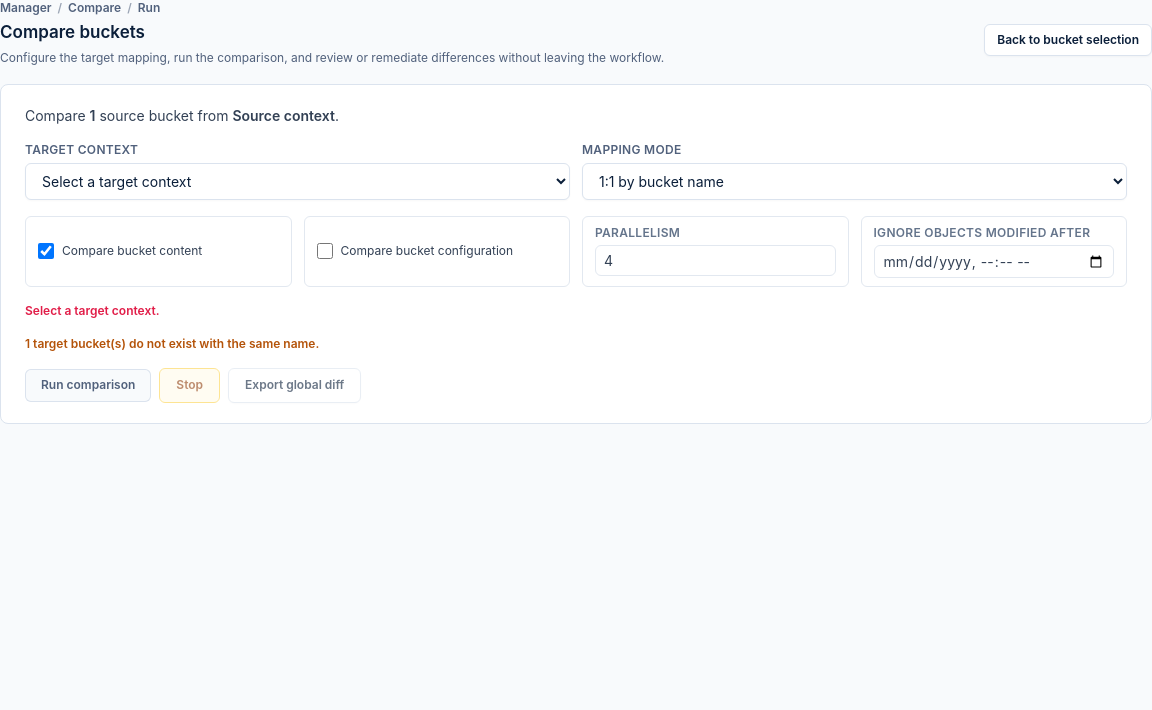
Scenario: ManagerBucketCompareModal remediation actions › opens a confirmation modal before running remediation
The image size is (1152, 710).
Expected: the dropdown labelled "Mapping mode" is shown, [582,162,1127,200]
Select "Target context" in the dropdown labelled "Target context". click: (298, 181)
box: [25,162,570,200]
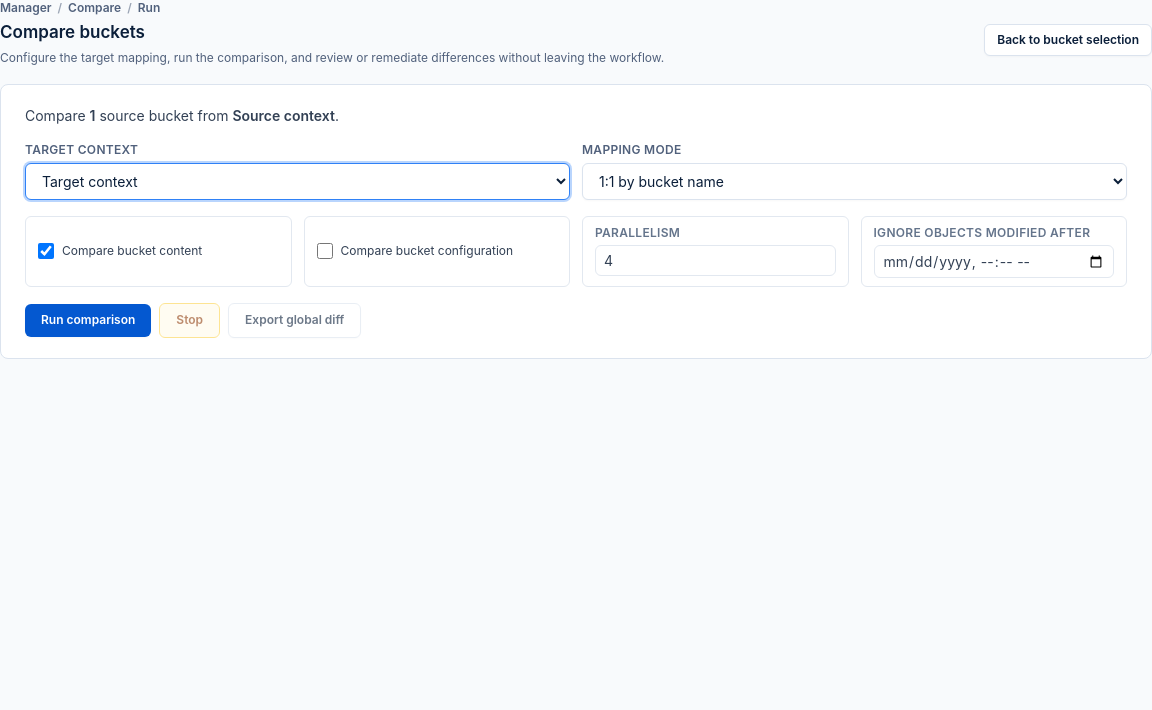
Result: the button "Run comparison" is enabled
Click the button "Run comparison". click: (88, 320)
box: [25,304,151,336]
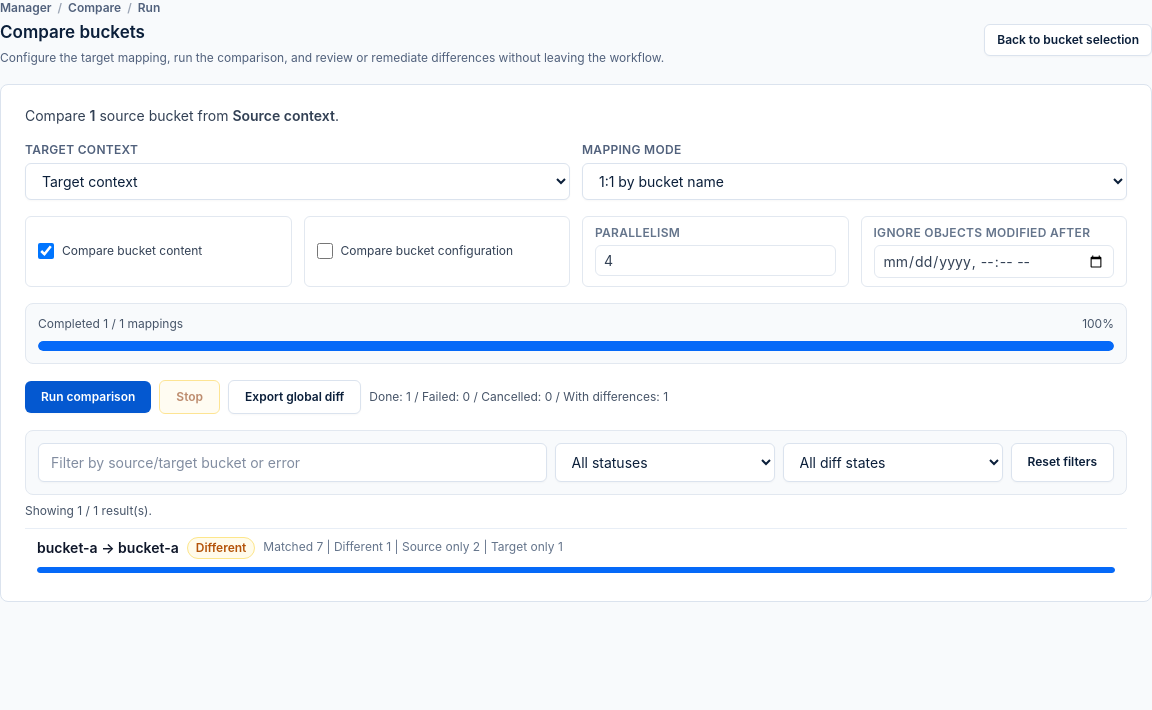
Click the heading that starts with "bucket-a". click: (67, 547)
box: [25,528,1127,580]
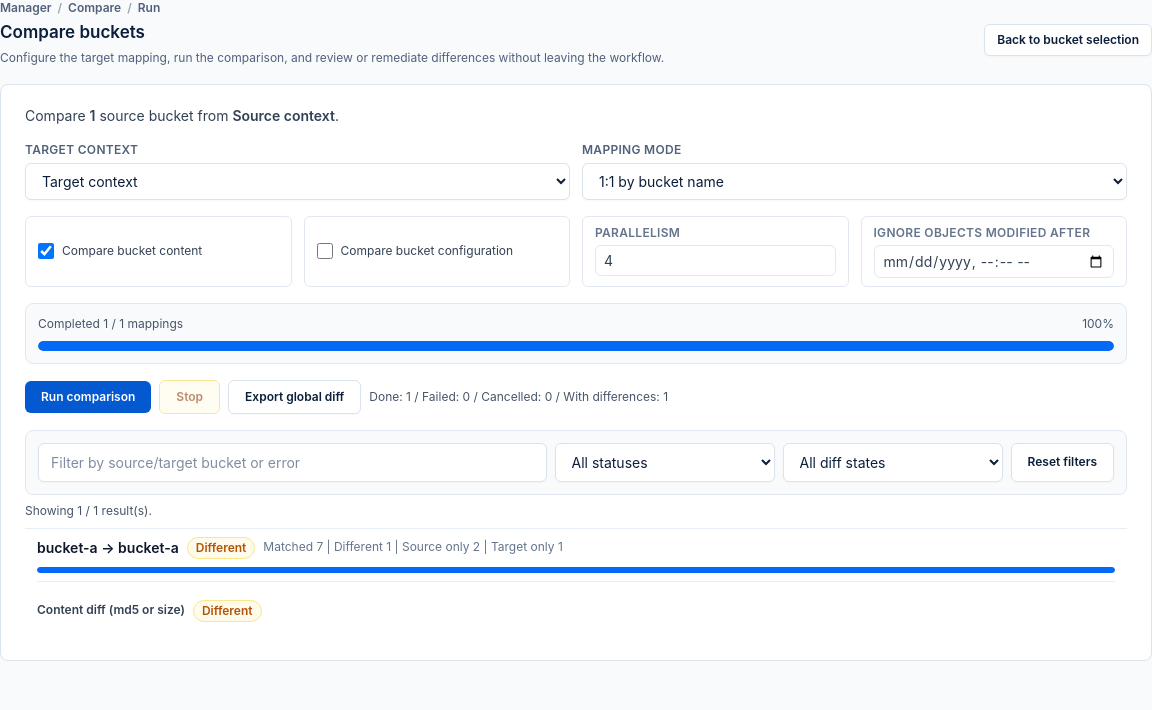
Click the heading "Content diff (md5 or size) Different". click: (149, 610)
box: [37,600,262,622]
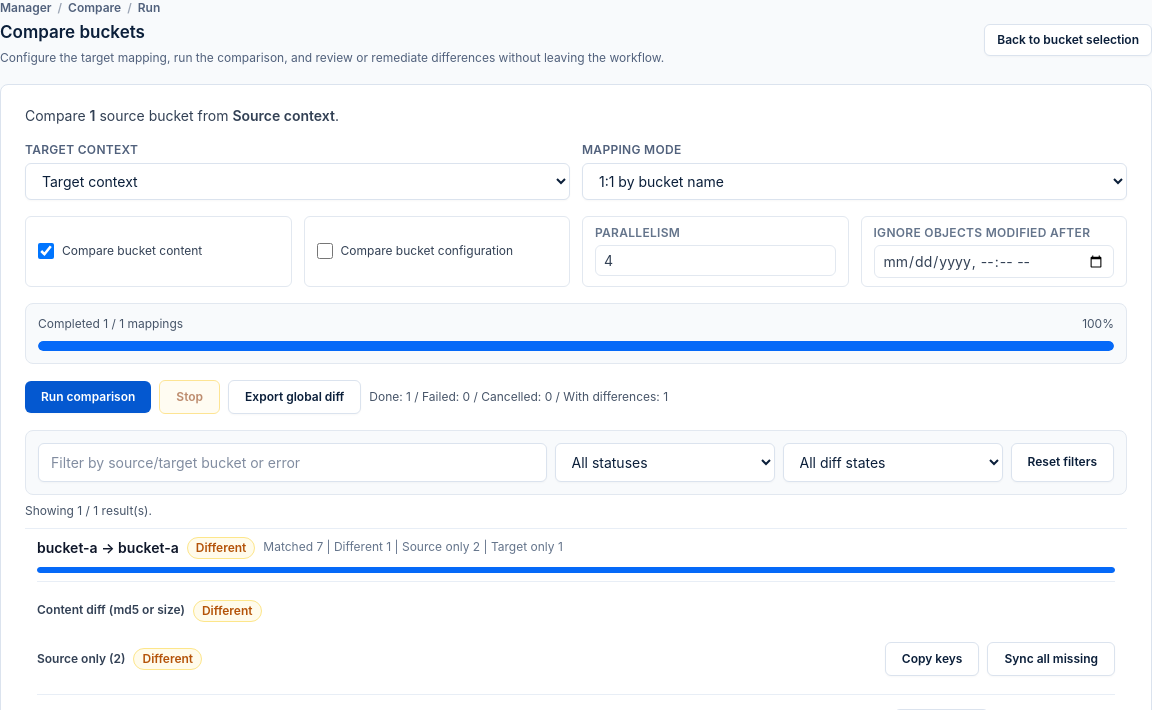
Click the button "Sync all missing". click: (1051, 659)
box: [988,642,1115,676]
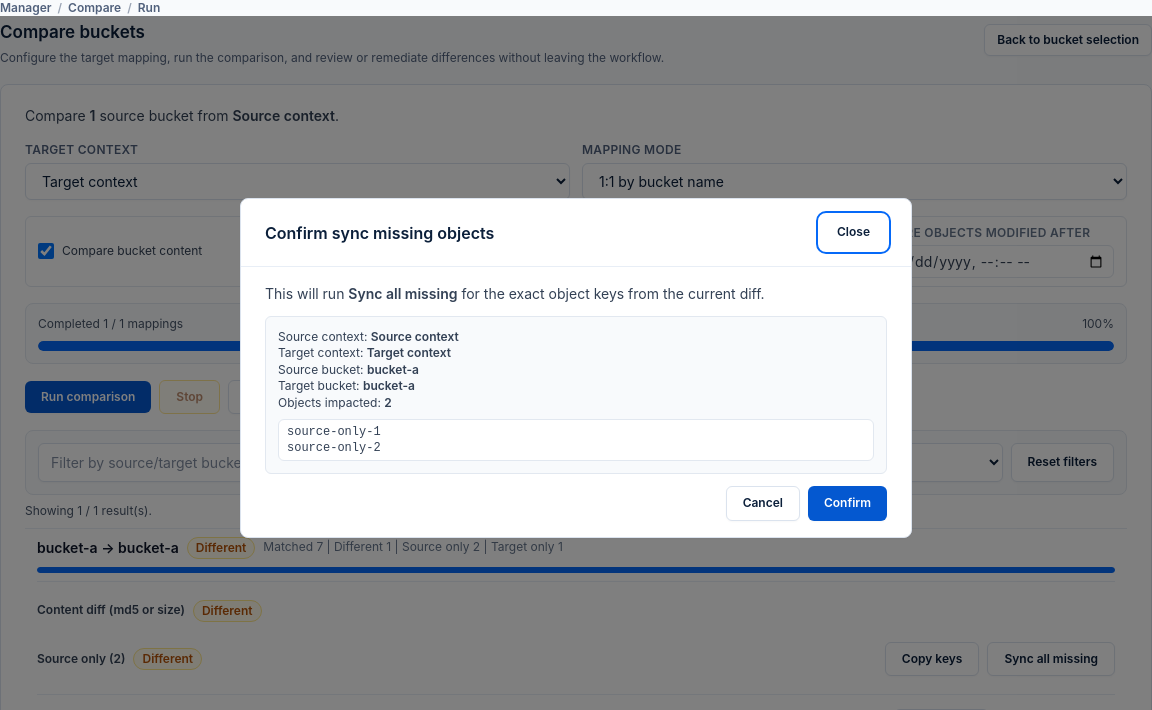
Result: the heading "Confirm sync missing objects" is shown at [265,222,494,244]
Result: the text "Objects impacted: 2" is shown at [278,395,392,410]
Result: the button "Confirm" is shown at [808,486,887,521]
